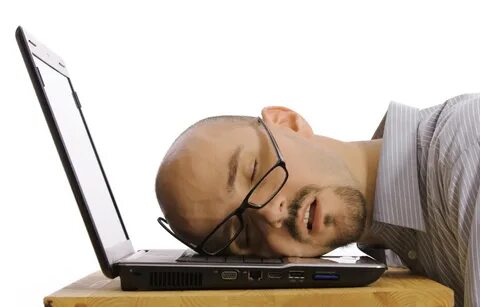sleep: (154, 102, 480, 260)
